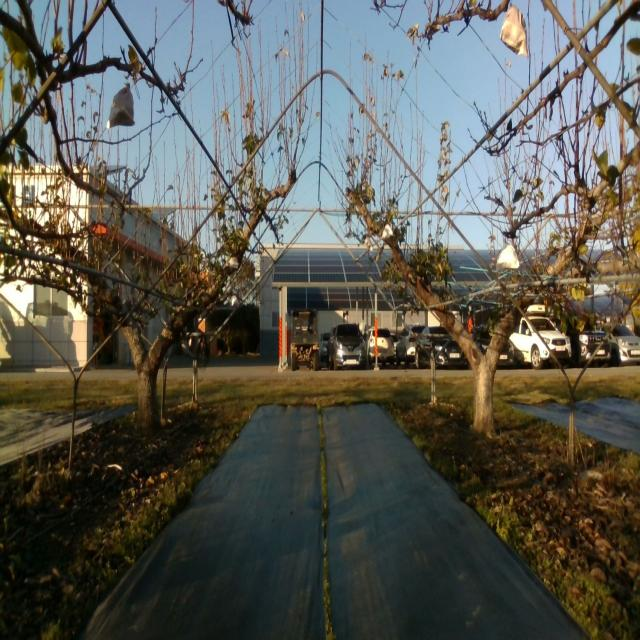pearbags: (499, 4, 529, 59), (106, 80, 136, 128), (496, 238, 520, 271)
